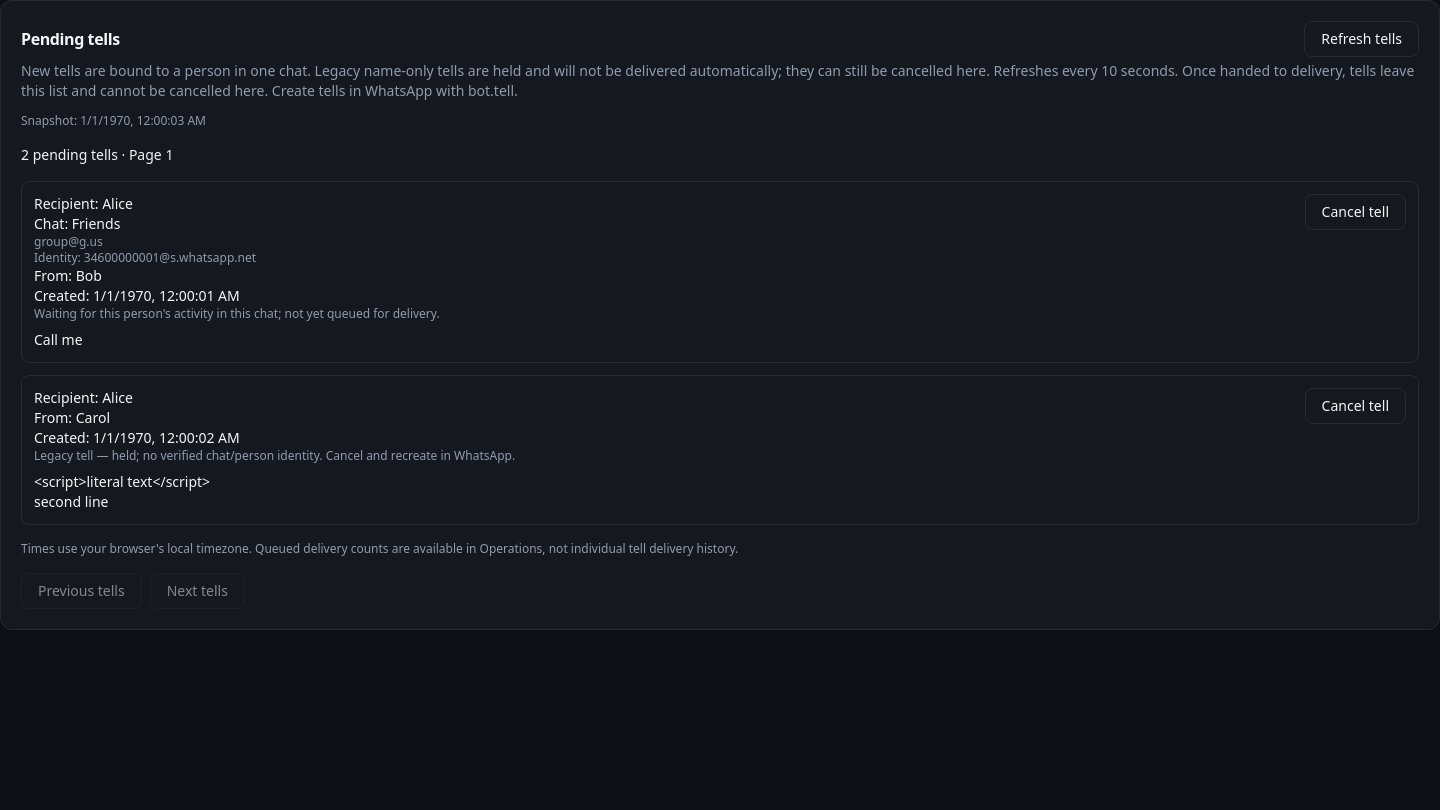
pending tells › reports an outbox handoff conflict without false success and refetches
The image size is (1440, 810).
Check: the text "Call me" is shown, box [34,330,83,349]
Click the button with aria-label "Cancel tell 1".
click(1355, 212)  # box [1305,194,1406,230]
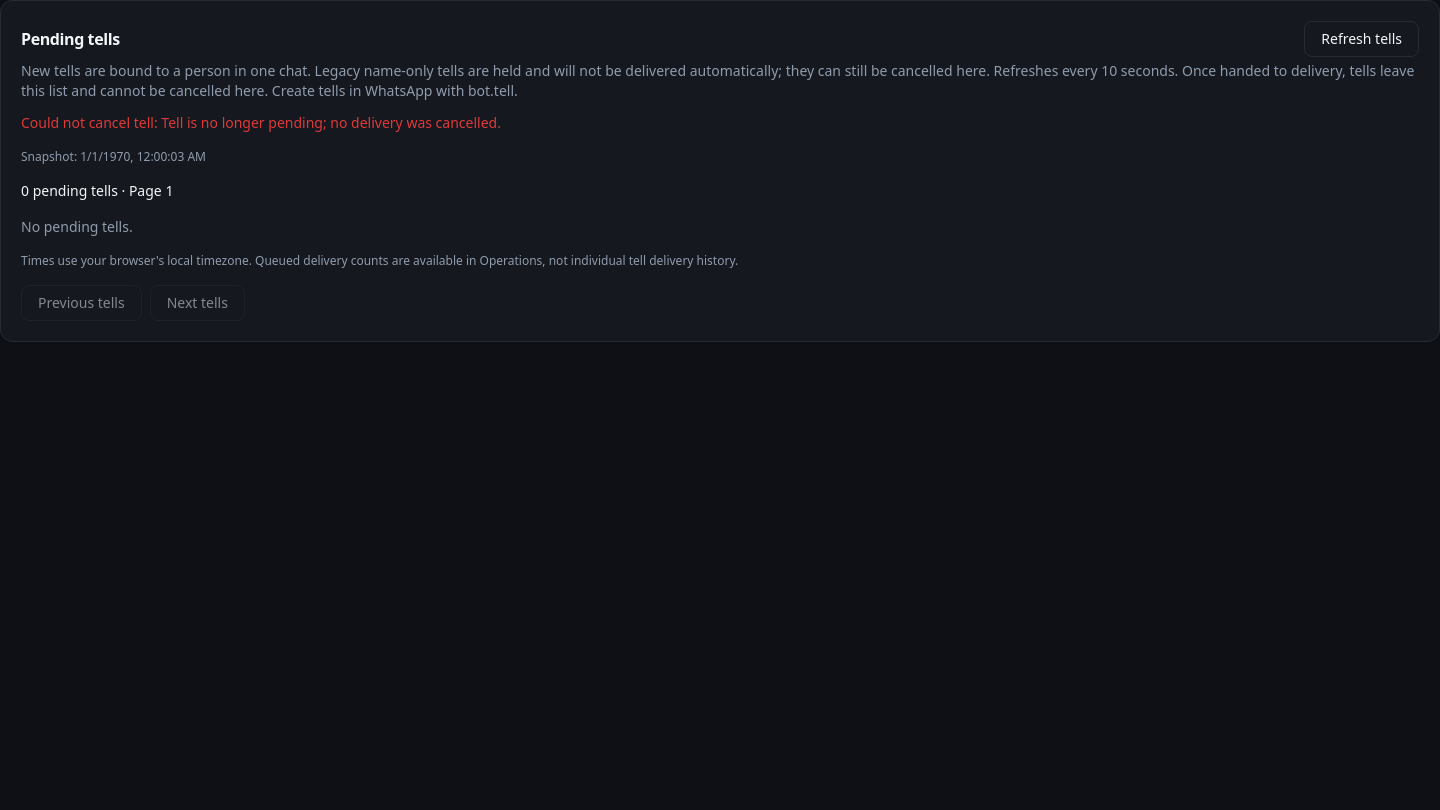
Check: the message shows "no delivery was cancelled", box [161,113,501,132]
Check: the text "No pending tells." is shown, box [21,217,133,236]
